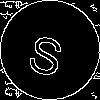S: (25, 25, 69, 78)
